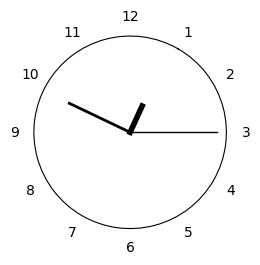12: (122, 8, 139, 23)
circle: (35, 36, 227, 229)
hours: (127, 103, 145, 135)
minutes: (68, 102, 127, 131)
seconds: (133, 131, 219, 134)
